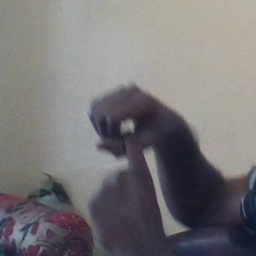Q: (78, 79, 176, 231)
